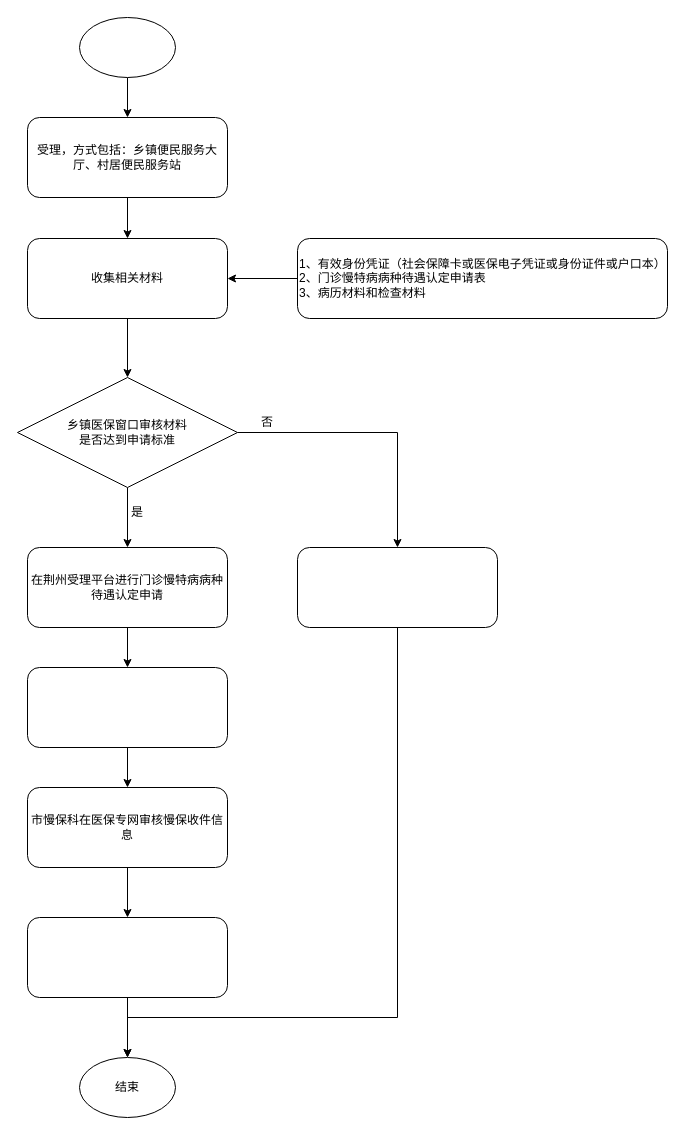
Some shapes in this 685 by 1135 pixel diagram are drawn without their labels. Here are the shapes that lost their labels. From the top down, the box of each, then its label:
(78, 16, 176, 78): 开始
(296, 546, 498, 628): 告知原因及申请标准
(26, 666, 228, 748): 合格的材料在乡便民服务大厅医保窗口处归档
(26, 916, 228, 998): 在荆州受理平台进行出件，并记录台账
